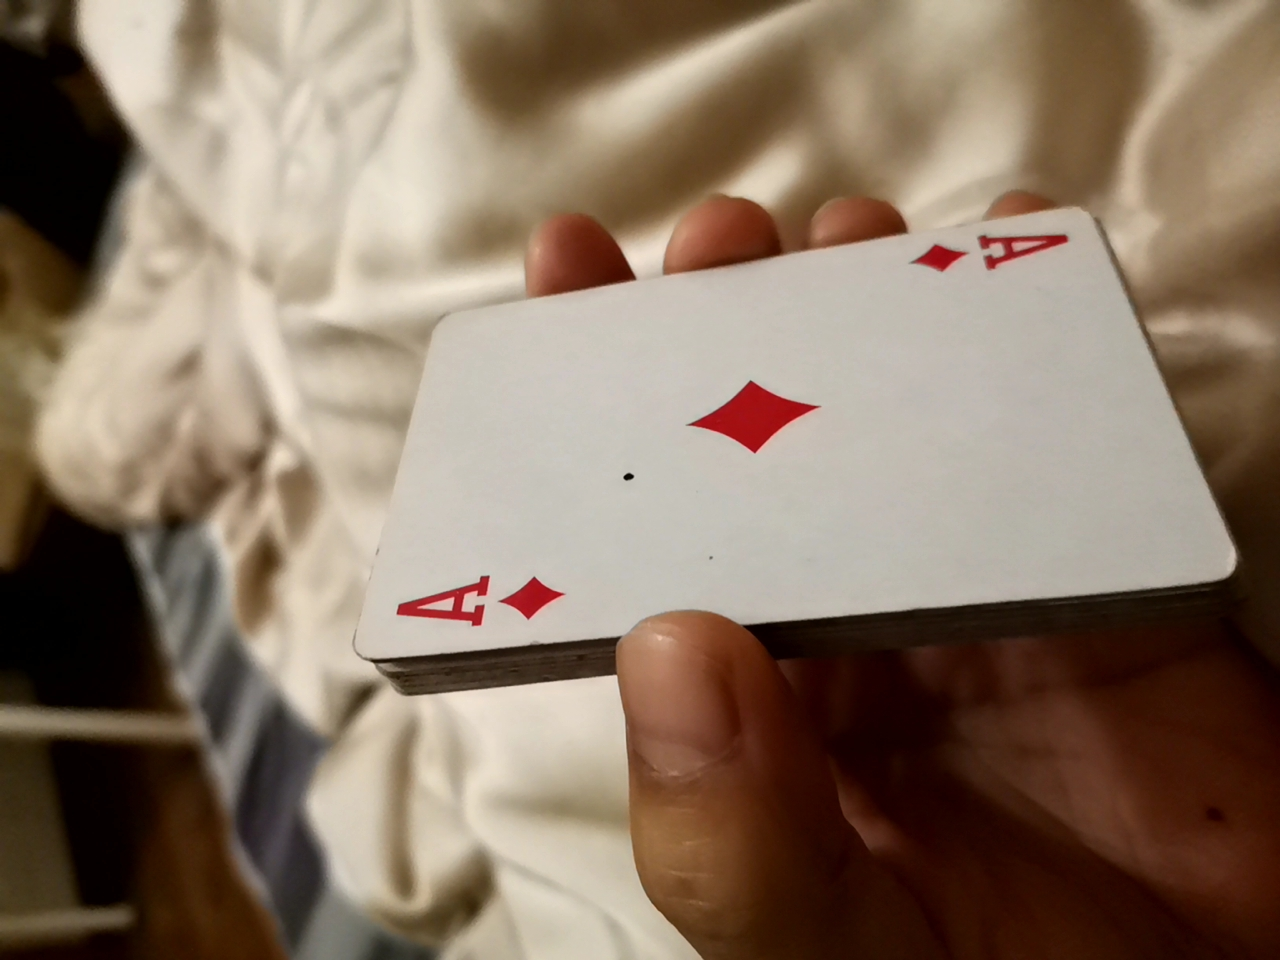fk a: (296, 258, 1218, 693)
